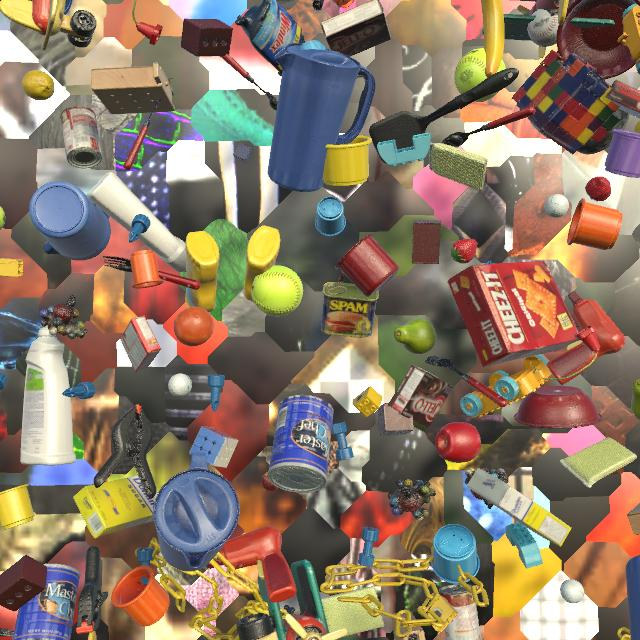ycb_002_master_chef_can: (267, 395, 334, 493), (12, 563, 81, 640)
ycb_003_cracker_box: (447, 261, 578, 367)
ycb_004_sugar_box: (467, 468, 571, 547), (73, 476, 158, 539)
ycb_005_tomato_soup_can: (60, 105, 102, 168), (439, 584, 482, 640)
ycb_006_mustard_bottle: (185, 231, 220, 314), (243, 225, 280, 303)
ycb_008_pudding_box: (388, 365, 453, 428), (321, 0, 391, 57), (605, 79, 640, 119)
ycb_009_gelatin_box: (120, 315, 161, 372)
ycb_010_potted_meat_can: (321, 282, 379, 338)
ycb_011_banana: (481, 0, 504, 78)
ycb_012_strawberry: (451, 239, 477, 264), (585, 177, 611, 201)
ycb_013_apple: (435, 422, 481, 463)
ycb_014_lemon: (22, 70, 55, 101), (634, 120, 640, 133)
ycb_016_pear: (394, 319, 437, 354), (631, 379, 640, 420)
ycb_017_orange: (174, 307, 214, 346)
